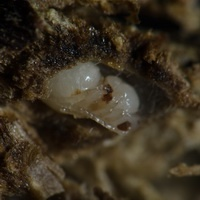insect: (43, 60, 140, 135)
